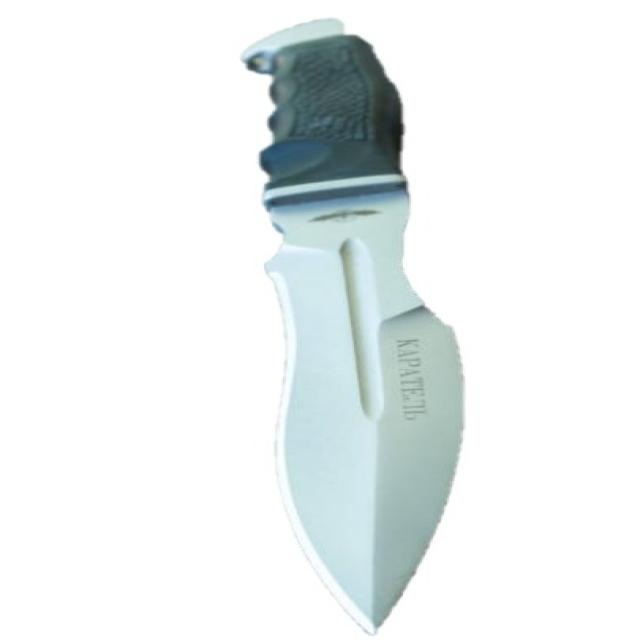knife: (237, 14, 490, 640)
